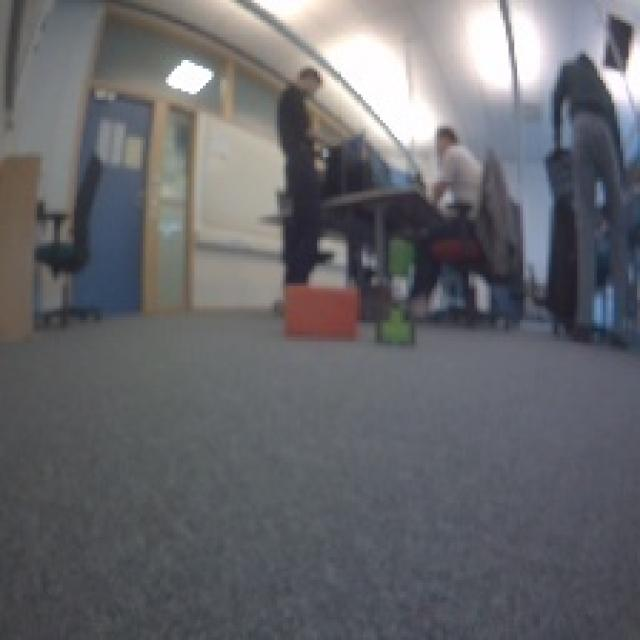robot: (371, 300, 422, 347)
target: (280, 280, 360, 340)
